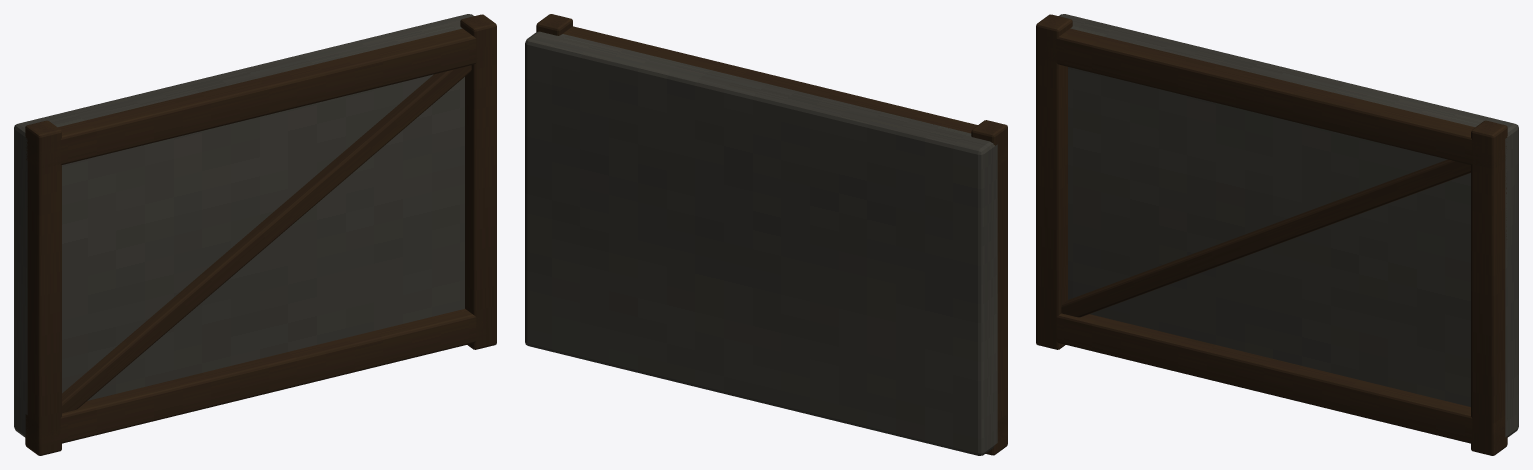
Rendered from prop_town_wooden_wall_light.glb.
3 renders of one model, left to right at view 1: azimuth 30°, elevation 25°; view 2: azimuth 150°, elevation 25°; view 3: azimuth 330°, elevation 25°, orthographic.
Visible parts, largest first — view 1: mortar, aged_oak; view 2: mortar, aged_oak; view 3: mortar, aged_oak.
Boxes of the visible parts, bbox=[...] form: mortar: bbox=[14, 14, 473, 437]; aged_oak: bbox=[25, 14, 496, 455]; mortar: bbox=[525, 31, 997, 455]; aged_oak: bbox=[536, 14, 1007, 455]; mortar: bbox=[1059, 14, 1518, 437]; aged_oak: bbox=[1036, 14, 1507, 455].
Size of the model in its own units: 5 by 3.35 by 0.51.
2 materials, 2 textured.
